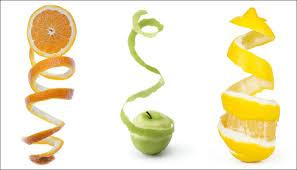Organic: (23, 9, 297, 170)
